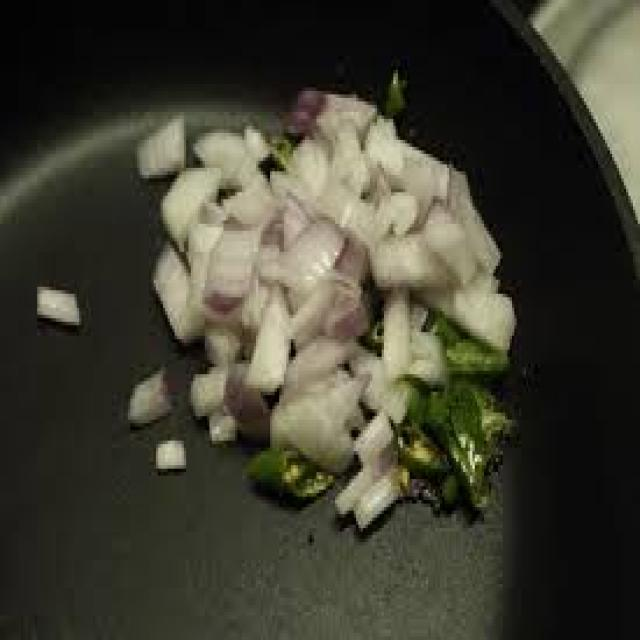UPMA: (142, 91, 514, 584)
